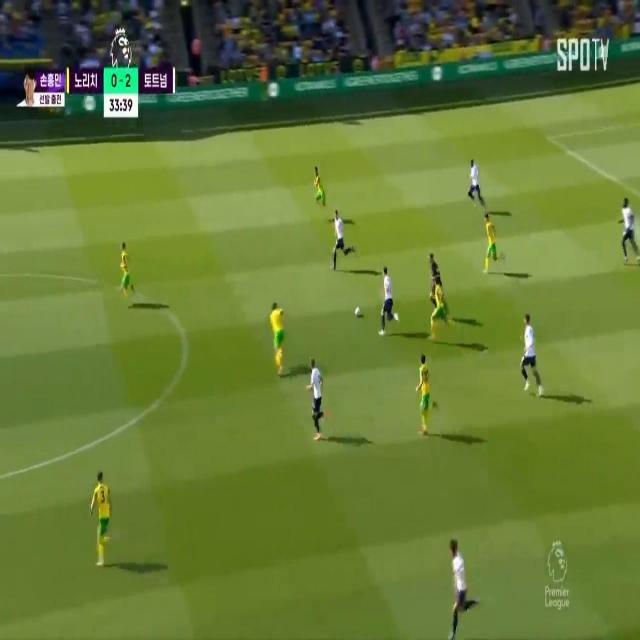ball: (353, 303, 366, 325)
player: (449, 536, 471, 637), (92, 467, 112, 569), (518, 311, 537, 402), (621, 191, 640, 269), (271, 304, 288, 373), (419, 352, 434, 429), (430, 273, 445, 347), (330, 208, 347, 272), (309, 361, 324, 433), (485, 211, 498, 282), (383, 265, 396, 333), (119, 242, 133, 298), (466, 151, 479, 201), (313, 160, 325, 214)
referee: (431, 251, 445, 301)
